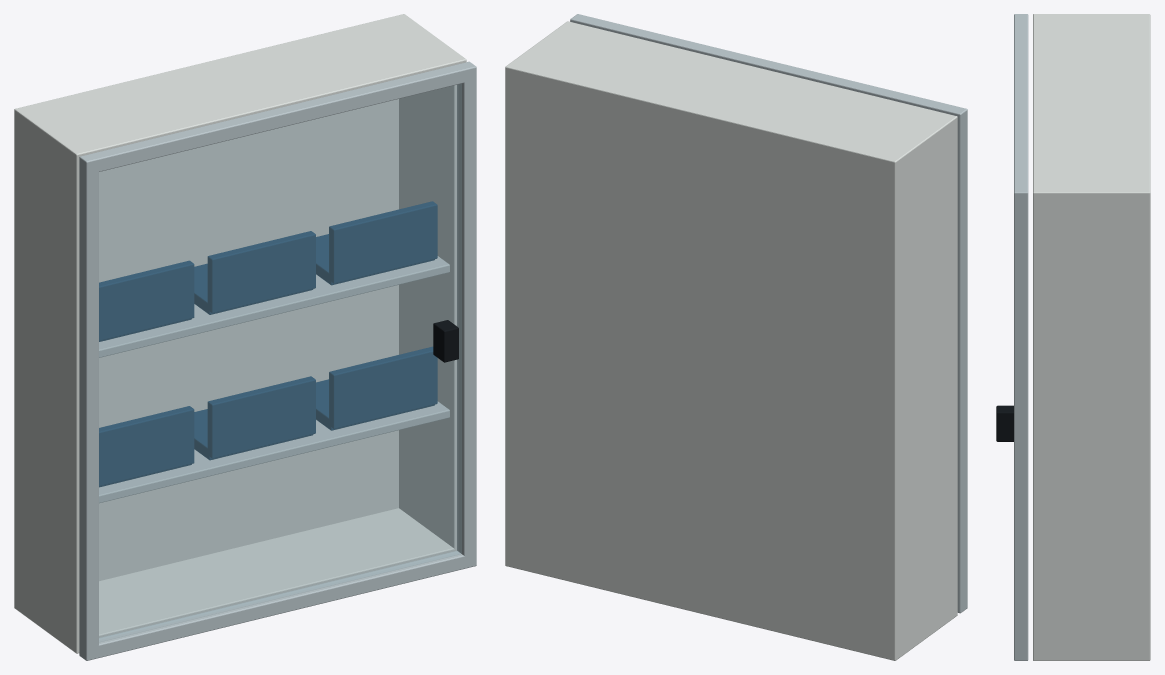
3 views of the same model, side by side, from view 1: azimuth 30°, elevation 25°; view 2: azimuth 150°, elevation 25°; view 3: azimuth 270°, elevation 25° (orthographic). The views are drawn at different scales.
Visible parts, largest first — view 1: DOOR_Glass, CASE_Back, CASE_Side.001, CASE_Cap, CASE_Cap.001, CASE_Side, DOOR_Frame, DOOR_Frame.001, DOOR_Rail.001, DOOR_Rail, BIN_Front, BIN_Front.002 (+11 smaller); view 2: CASE_Back, CASE_Side.001, CASE_Cap, CASE_Side, DOOR_Frame, CASE_Cap.001, DOOR_Rail.001; view 3: CASE_Side, CASE_Cap, DOOR_Frame.001, CASE_Back, DOOR_Rail.001, CASE_Cap.001, LOCK.
Part boxes in pixels (x1,y1,x2,y2): DOOR_Glass: [99, 84, 461, 641]; CASE_Back: [14, 67, 398, 580]; CASE_Side.001: [14, 106, 88, 653]; CASE_Cap: [15, 14, 466, 166]; CASE_Cap.001: [77, 508, 455, 653]; CASE_Side: [399, 14, 466, 550]; DOOR_Frame: [79, 154, 98, 660]; DOOR_Frame.001: [457, 61, 476, 568]; DOOR_Rail.001: [79, 62, 476, 171]; DOOR_Rail: [79, 550, 475, 660]; BIN_Front: [329, 201, 437, 283]; BIN_Front.002: [207, 376, 315, 458]; CASE_Back: [505, 62, 901, 660]; CASE_Side.001: [883, 114, 957, 660]; CASE_Cap: [505, 21, 957, 168]; CASE_Side: [505, 22, 566, 568]; DOOR_Frame: [948, 106, 967, 613]; CASE_Cap.001: [505, 554, 957, 660]; DOOR_Rail.001: [571, 14, 966, 125]; CASE_Side: [1033, 187, 1150, 660]; CASE_Cap: [1033, 14, 1150, 203]; DOOR_Frame.001: [1014, 187, 1028, 660]; CASE_Back: [1137, 14, 1150, 660]; DOOR_Rail.001: [1014, 14, 1028, 200]; CASE_Cap.001: [1033, 649, 1150, 660]; LOCK: [996, 405, 1013, 441].
Bounding box in the file's own units: 0.9 × 1.1 × 0.3275.
